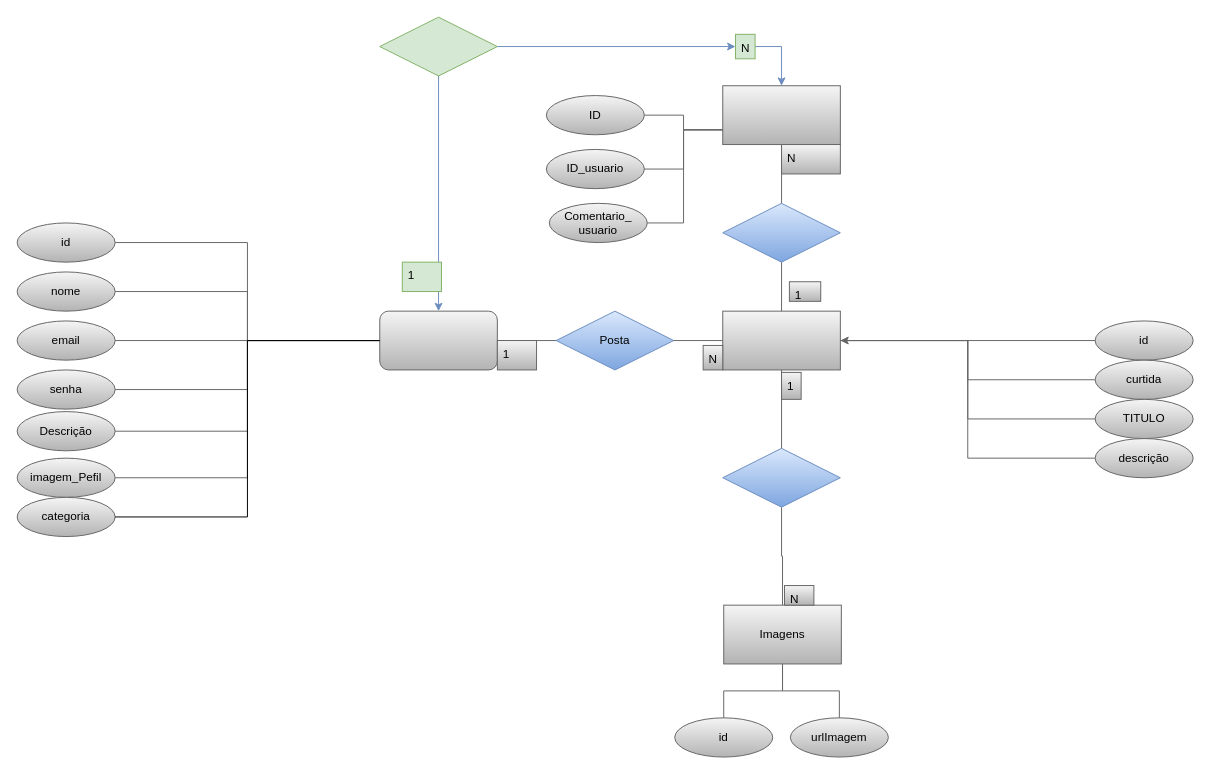
The diagram is 1210 pixels wide and 774 high, and some of its shapes have lost their labels. Here are the shapes that lost their labels. From the top down, the centre of each, then its label:
At (438,46): "pode fazer/Pertence".
At (781,115): "Comentario".
At (781,232): "pode ter".
At (438,340): "Usuário".
At (781,340): "Postagem".
At (781,477): "Possui".
